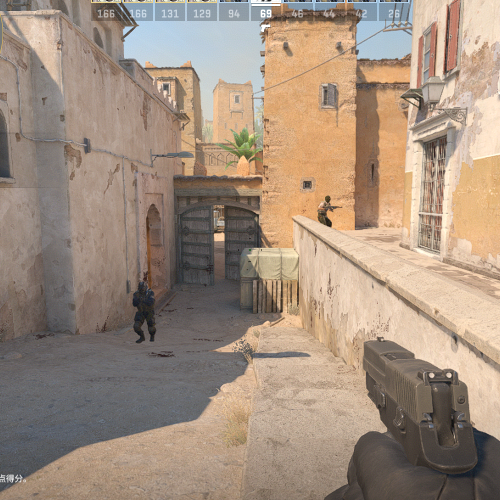ct_body: (132, 281, 156, 344)
ct_head: (137, 281, 147, 293)
t_body: (317, 196, 333, 229)
t_head: (324, 196, 331, 203)
